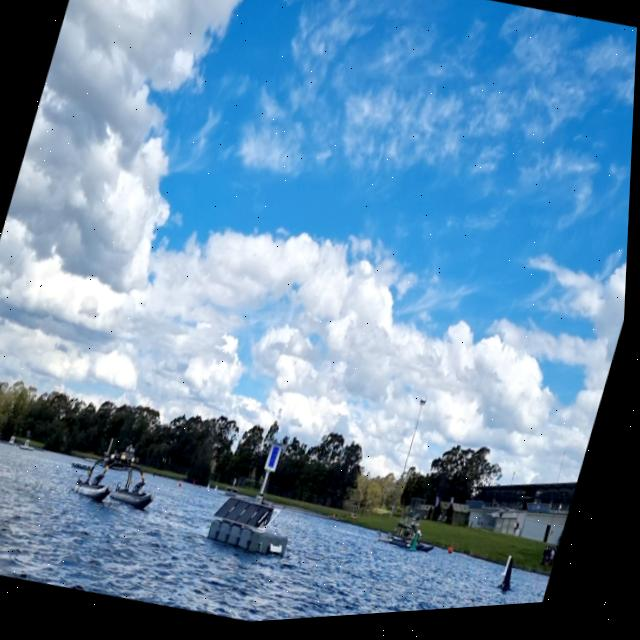led: (270, 448, 285, 473)
